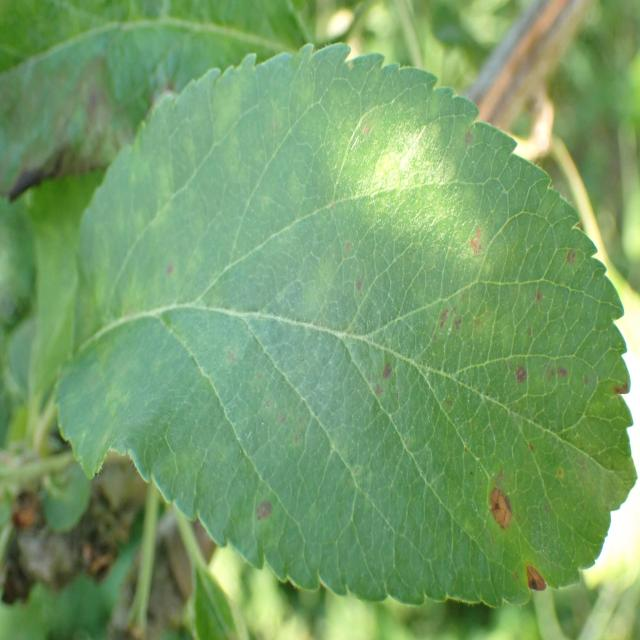frog-eye-leaf-spot: (54, 40, 638, 608)
